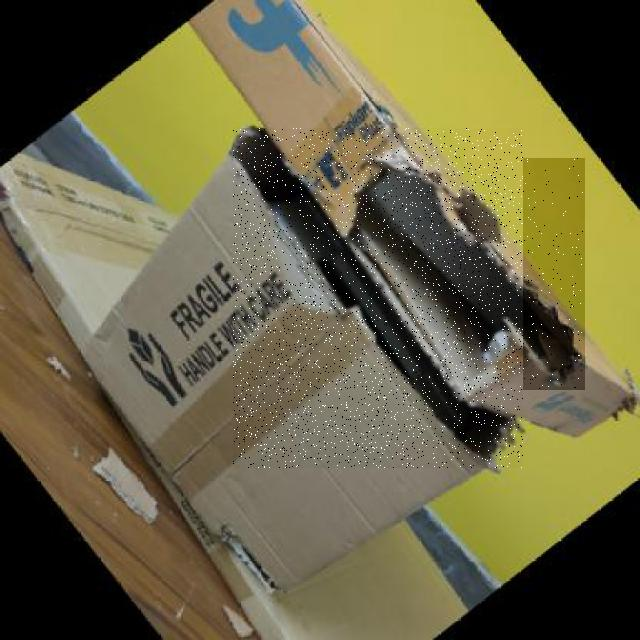leakage: (234, 128, 523, 468), (362, 158, 583, 389)
